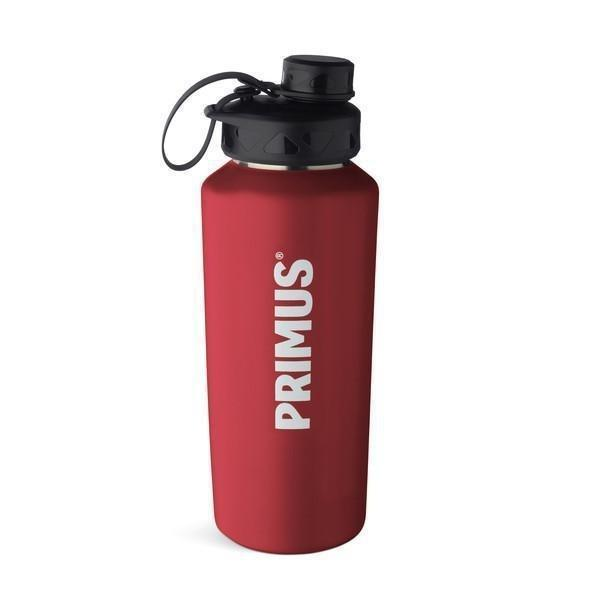gym bottle: (197, 55, 383, 557)
